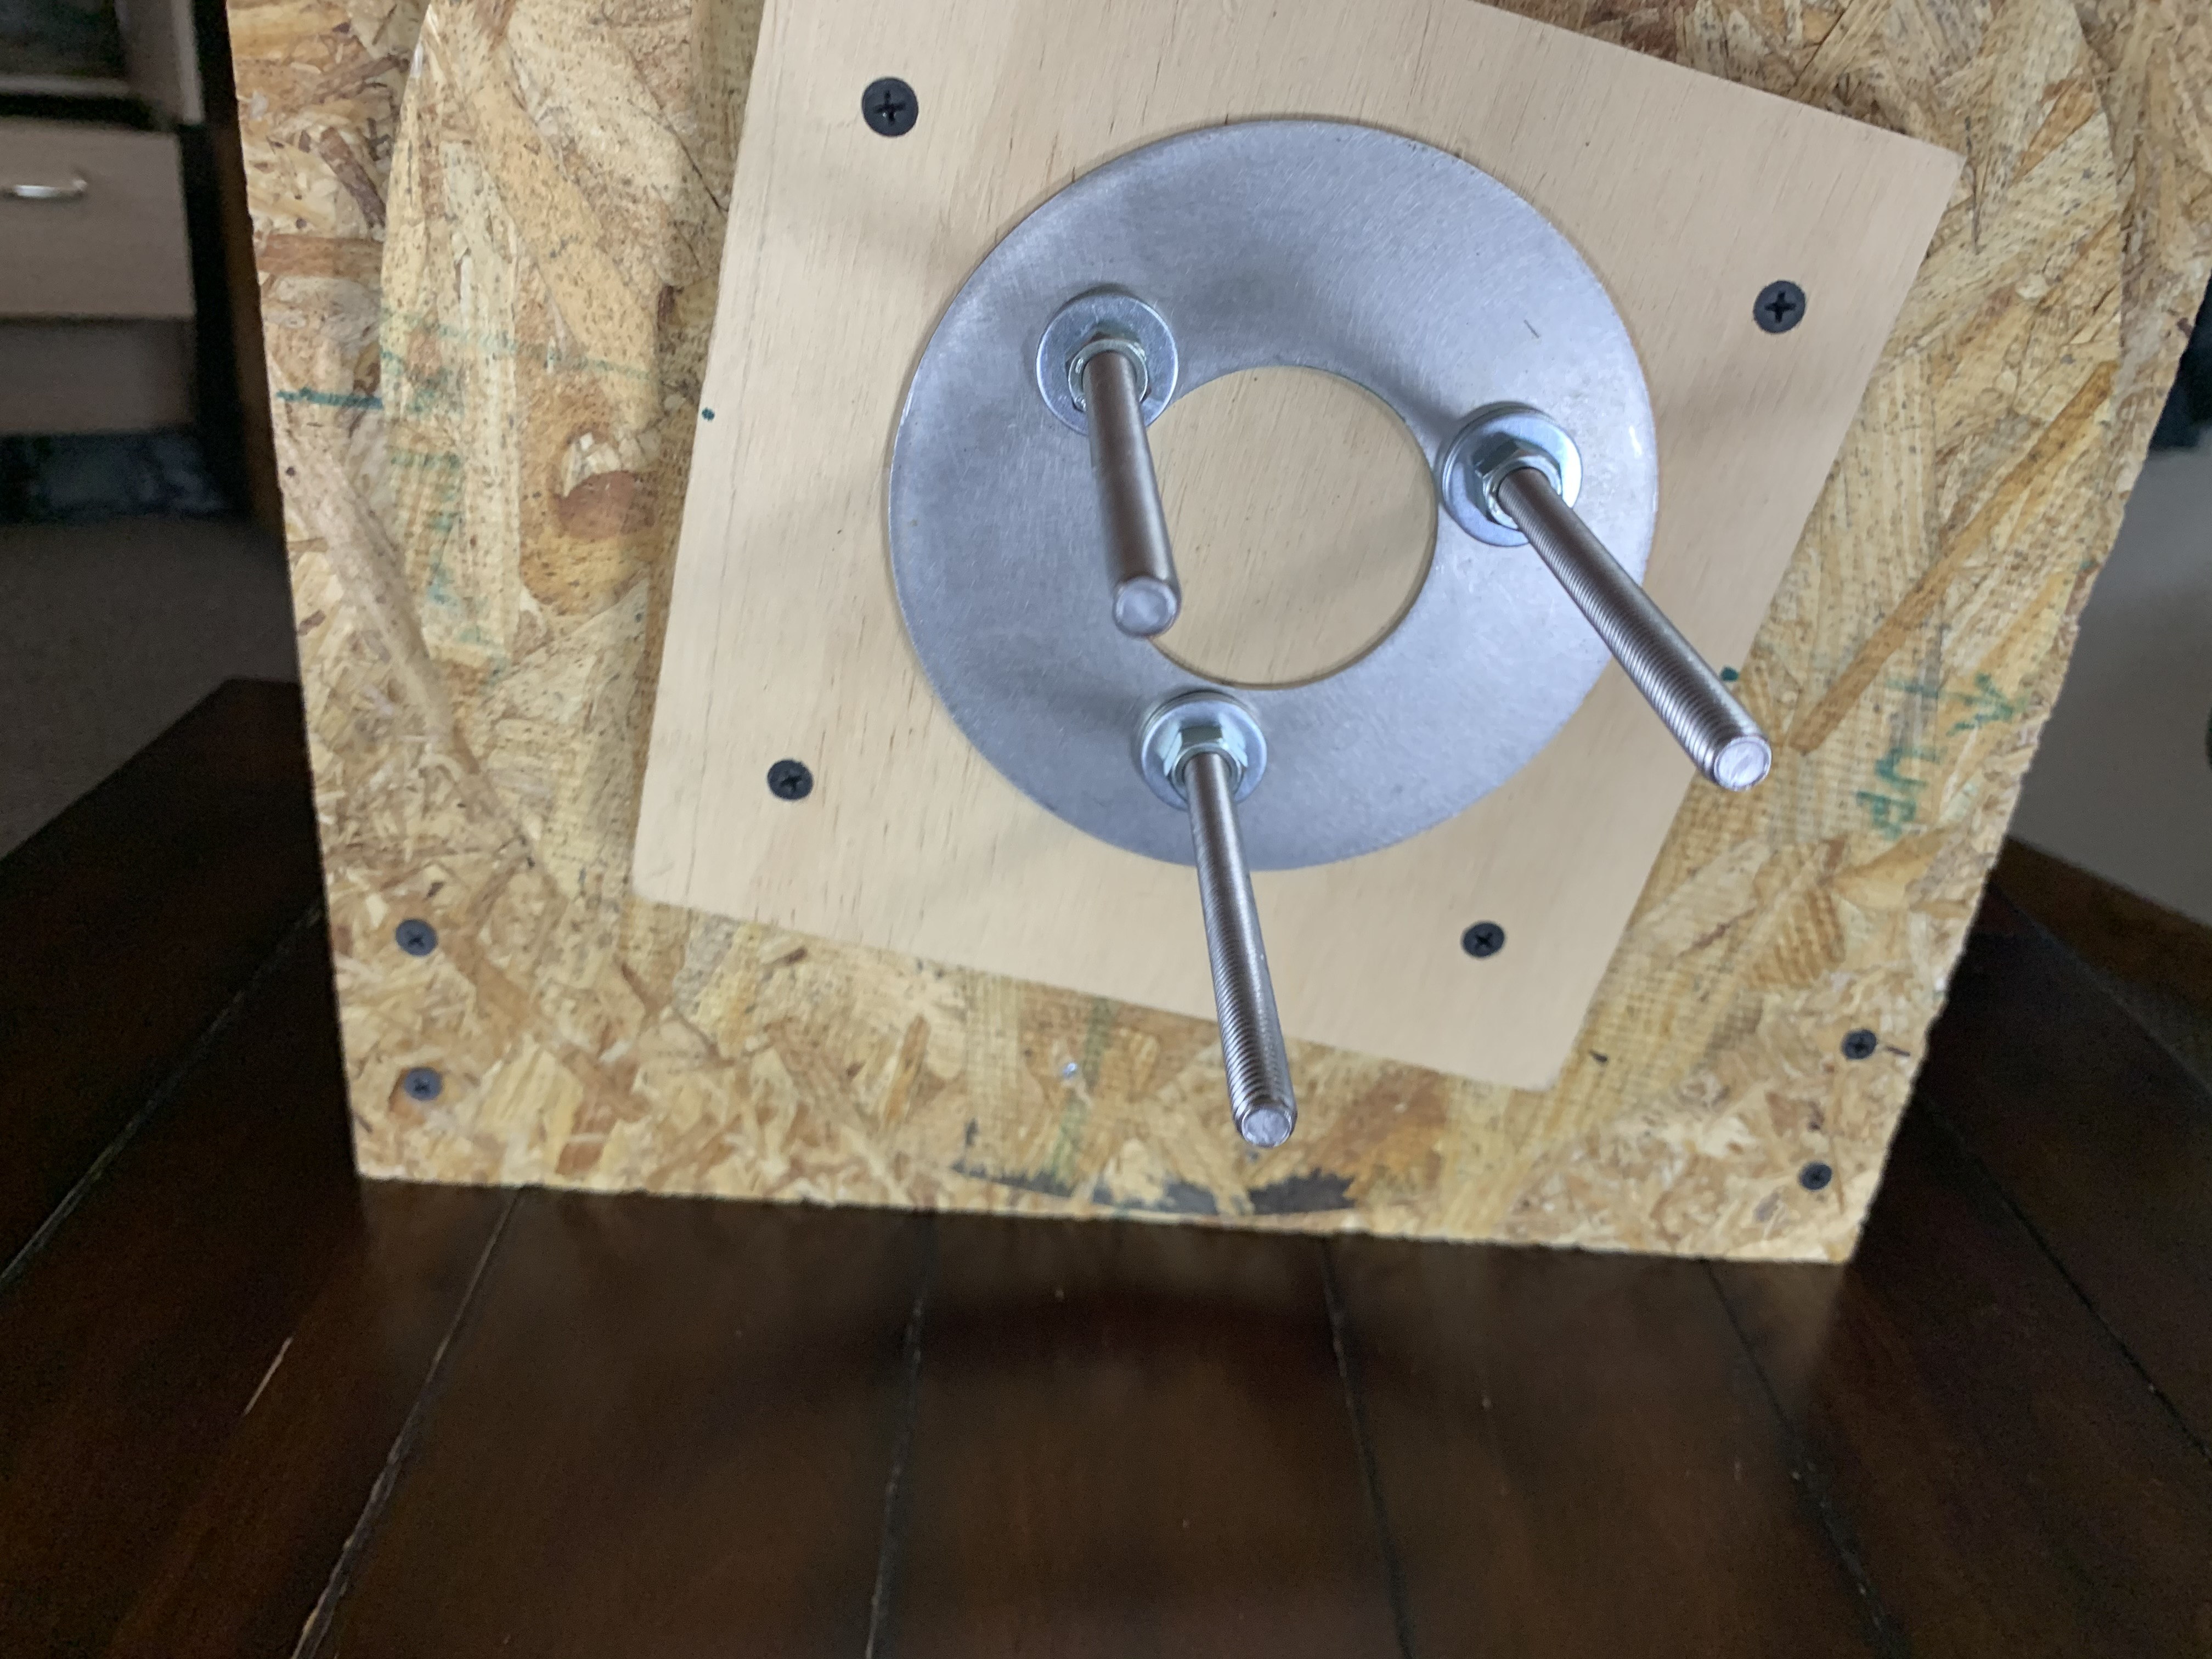bolt: (1033, 288, 1181, 434), (1437, 399, 1583, 547), (1137, 687, 1273, 807)
